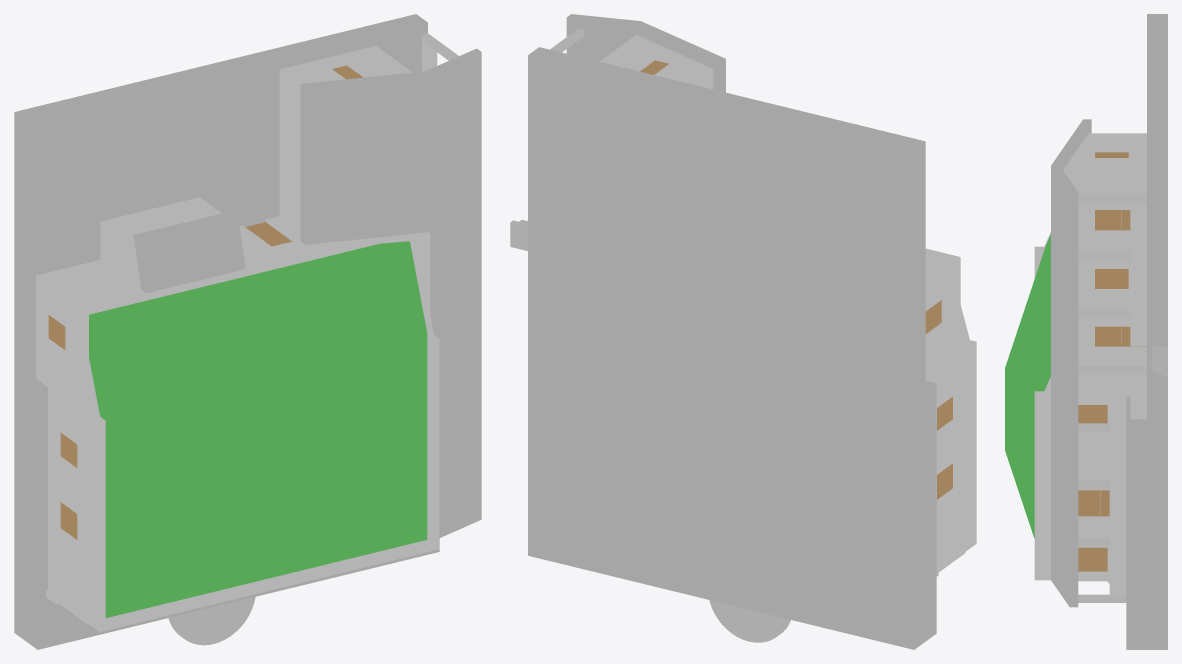
Rendered from RIBEIRO.glb.
3 renders of one model, left to right at view 1: azimuth 30°, elevation 25°; view 2: azimuth 150°, elevation 25°; view 3: azimuth 270°, elevation 25°, orthographic. The views are drawn at different scales.
Parts seen in each view (by area): view 1: MP-SJM-2026-0034, MP-SJM-2026-0032, MP-SJM-2026-0037, Basic Roof:Genérico - 400 mm:330208, Basic Roof:Genérico - 400 mm:330756, MP-SJM-2026-0031, MP-SJM-2026-0043, MP-SJM-2026-0045, Basic Roof:Genérico - 400 mm:331777, MP-SJM-2026-0055, MP-SJM-2026-0062, MP-SJM-2026-0049 (+6 smaller); view 2: MP-SJM-2026-0032, MP-SJM-2026-0031, MP-SJM-2026-0043, MP-SJM-2026-0055, Basic Roof:Genérico - 400 mm:330208, MP-SJM-2026-0050, Stairs 1:Stairs 1:632578, Basic Roof:Genérico - 400 mm:330756, MP-SJM-2026-0045; view 3: Basic Roof:Genérico - 400 mm:330208, MP-SJM-2026-0031, MP-SJM-2026-0056, MP-SJM-2026-0032, MP-SJM-2026-0034, MP-SJM-2026-0053, MP-SJM-2026-0061, MP-SJM-2026-0050, MP-SJM-2026-0044, Walls 1:Walls 1:626570, MP-SJM-2026-0004, MP-SJM-2026-0037 (+16 smaller).
Part boxes in pixels (x1=…): MP-SJM-2026-0034: x1=99, y1=333, x2=427, y2=617; MP-SJM-2026-0032: x1=14, y1=14, x2=427, y2=380; MP-SJM-2026-0037: x1=89, y1=241, x2=427, y2=412; Basic Roof:Genérico - 400 mm:330208: x1=425, y1=48, x2=481, y2=538; Basic Roof:Genérico - 400 mm:330756: x1=300, y1=71, x2=430, y2=244; MP-SJM-2026-0031: x1=14, y1=373, x2=439, y2=649; MP-SJM-2026-0043: x1=48, y1=384, x2=105, y2=625; MP-SJM-2026-0045: x1=36, y1=216, x2=424, y2=315; Basic Roof:Genérico - 400 mm:331777: x1=133, y1=211, x2=245, y2=293; MP-SJM-2026-0055: x1=36, y1=282, x2=99, y2=417; MP-SJM-2026-0062: x1=48, y1=540, x2=439, y2=631; MP-SJM-2026-0049: x1=279, y1=68, x2=306, y2=230; MP-SJM-2026-0032: x1=528, y1=47, x2=925, y2=399; MP-SJM-2026-0031: x1=528, y1=306, x2=936, y2=649; MP-SJM-2026-0043: x1=927, y1=340, x2=976, y2=566; MP-SJM-2026-0055: x1=925, y1=263, x2=971, y2=381; Basic Roof:Genérico - 400 mm:330208: x1=566, y1=14, x2=640, y2=61; MP-SJM-2026-0050: x1=605, y1=37, x2=707, y2=82; Stairs 1:Stairs 1:632578: x1=709, y1=600, x2=790, y2=642; Basic Roof:Genérico - 400 mm:330756: x1=636, y1=21, x2=725, y2=92; MP-SJM-2026-0045: x1=925, y1=248, x2=960, y2=288; Basic Roof:Genérico - 400 mm:330208: x1=1051, y1=165, x2=1078, y2=607; MP-SJM-2026-0031: x1=1126, y1=396, x2=1167, y2=649; MP-SJM-2026-0056: x1=1044, y1=172, x2=1146, y2=396; MP-SJM-2026-0032: x1=1147, y1=14, x2=1167, y2=419; MP-SJM-2026-0034: x1=1005, y1=247, x2=1045, y2=538; MP-SJM-2026-0053: x1=1034, y1=391, x2=1126, y2=574; MP-SJM-2026-0061: x1=1109, y1=416, x2=1126, y2=597; MP-SJM-2026-0050: x1=1063, y1=136, x2=1146, y2=172; MP-SJM-2026-0044: x1=1130, y1=203, x2=1146, y2=346; Walls 1:Walls 1:626570: x1=1078, y1=322, x2=1146, y2=583; MP-SJM-2026-0004: x1=1078, y1=490, x2=1109, y2=516; MP-SJM-2026-0037: x1=1045, y1=234, x2=1050, y2=387.
Size of the model in its own units: 20.69 by 26.6 by 7.82.
